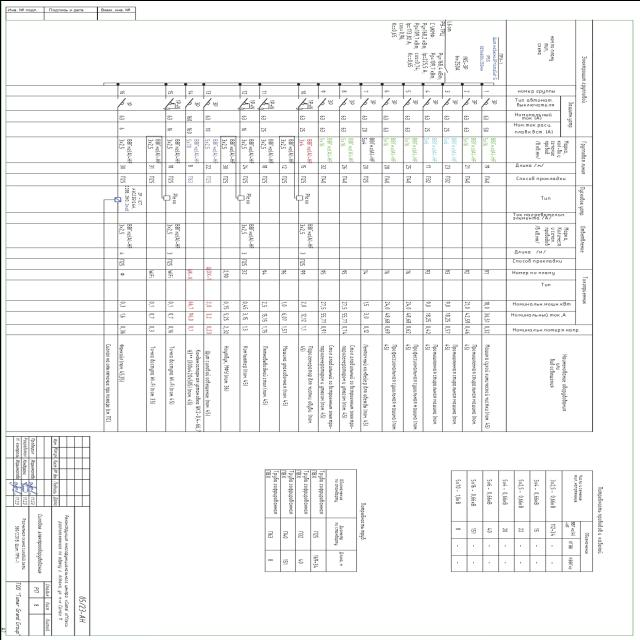-: (478, 36, 496, 80), (452, 53, 471, 70), (184, 115, 192, 134), (442, 114, 450, 132), (298, 114, 306, 132), (318, 114, 326, 132), (360, 114, 368, 132), (258, 113, 266, 131), (339, 114, 346, 132), (240, 113, 247, 131), (165, 114, 172, 132), (203, 114, 210, 132), (403, 114, 410, 132), (482, 114, 489, 130), (422, 114, 429, 130), (462, 114, 468, 132), (382, 114, 388, 132), (118, 114, 124, 130), (174, 98, 182, 108), (306, 98, 314, 108), (268, 98, 276, 108), (248, 98, 255, 108), (469, 98, 478, 105), (488, 98, 498, 104), (449, 98, 458, 104), (368, 98, 377, 104), (191, 100, 200, 106), (125, 100, 134, 106), (388, 98, 397, 104), (429, 98, 438, 104), (211, 100, 220, 106), (410, 98, 419, 104), (326, 98, 334, 104), (346, 98, 354, 104)
QF: (400, 96, 410, 107), (115, 95, 125, 106), (201, 95, 211, 106), (182, 95, 192, 106), (316, 95, 326, 106), (336, 96, 346, 107), (358, 95, 368, 106), (380, 95, 390, 106), (420, 95, 430, 106), (440, 95, 450, 106), (460, 95, 470, 106), (480, 96, 490, 107)
QFD: (256, 95, 272, 109), (234, 96, 250, 110), (161, 96, 176, 110), (294, 96, 309, 110)
QS: (442, 66, 448, 73)
